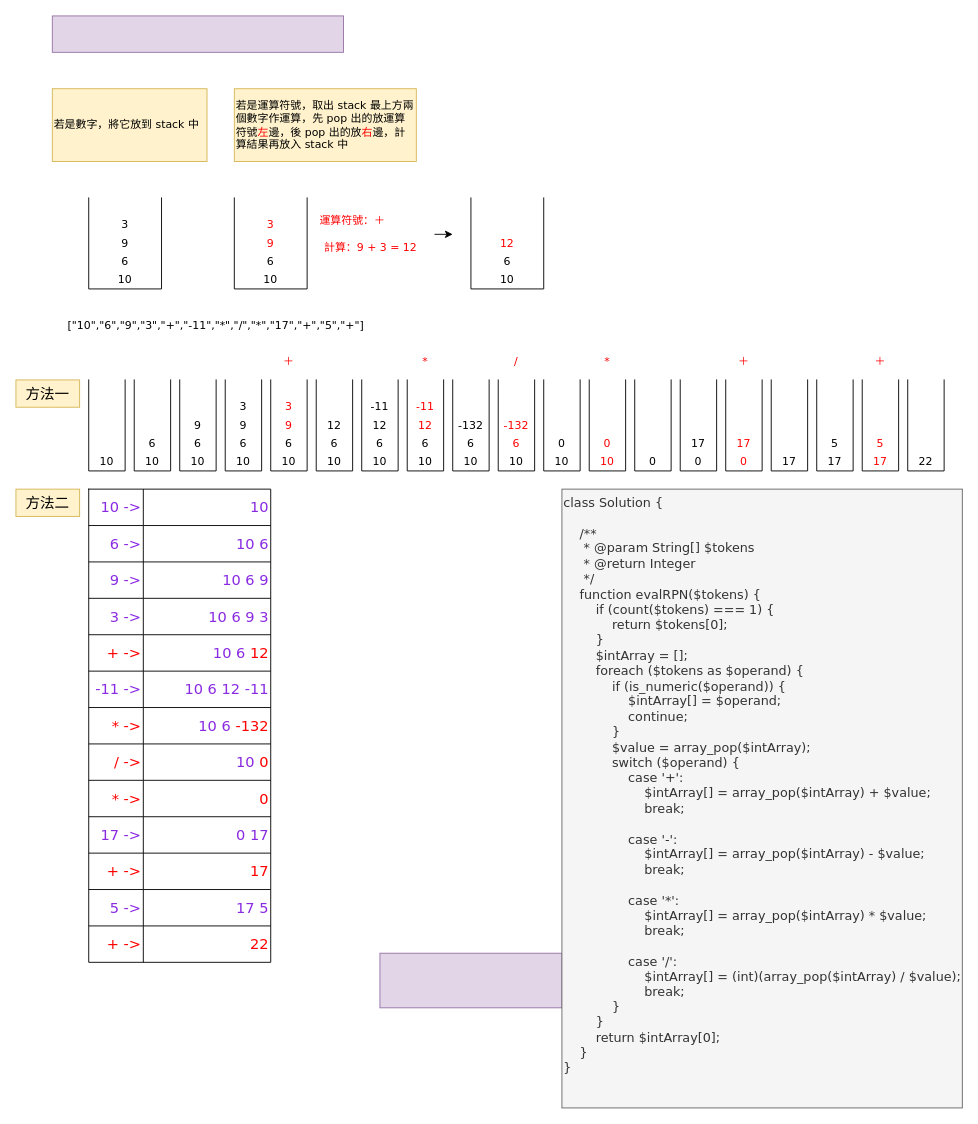
This 978x1124 diagram has some shape labels left out. The centre of each missing label's shape, as x and y in pixels:
PHP取除的結果的整數位 (int)(value1 / value2): the point at 470,980
Reverse Polish Notation (逆波蘭表示法): the point at 197,33
